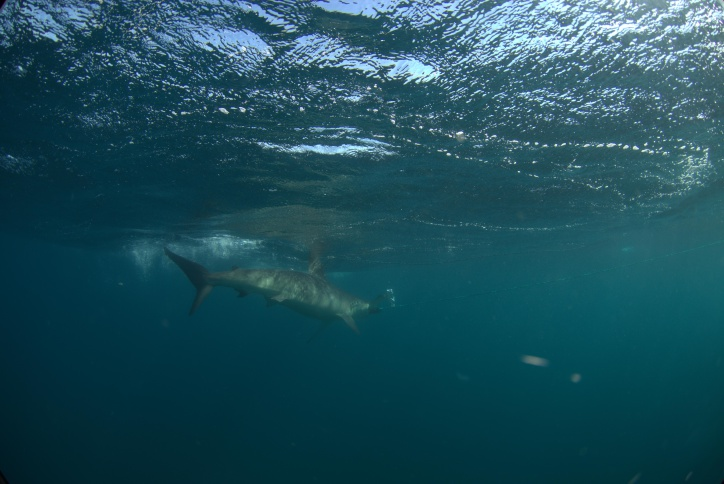Hammer: (162, 226, 404, 343)
